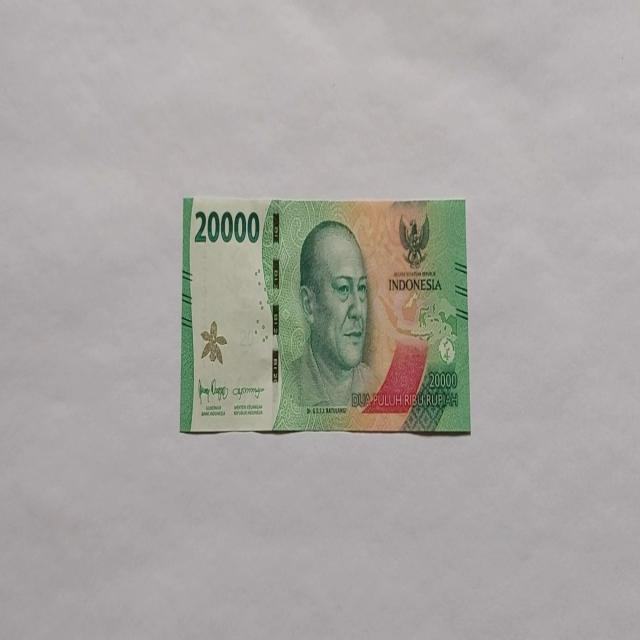dua puluh ribu rupiah: (179, 194, 471, 436), (278, 217, 382, 427)
